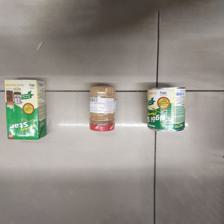Hao_hao: (87, 85, 118, 133)
NSPN_Hop: (4, 77, 49, 142)
NSPN_Lon: (144, 85, 188, 132)
